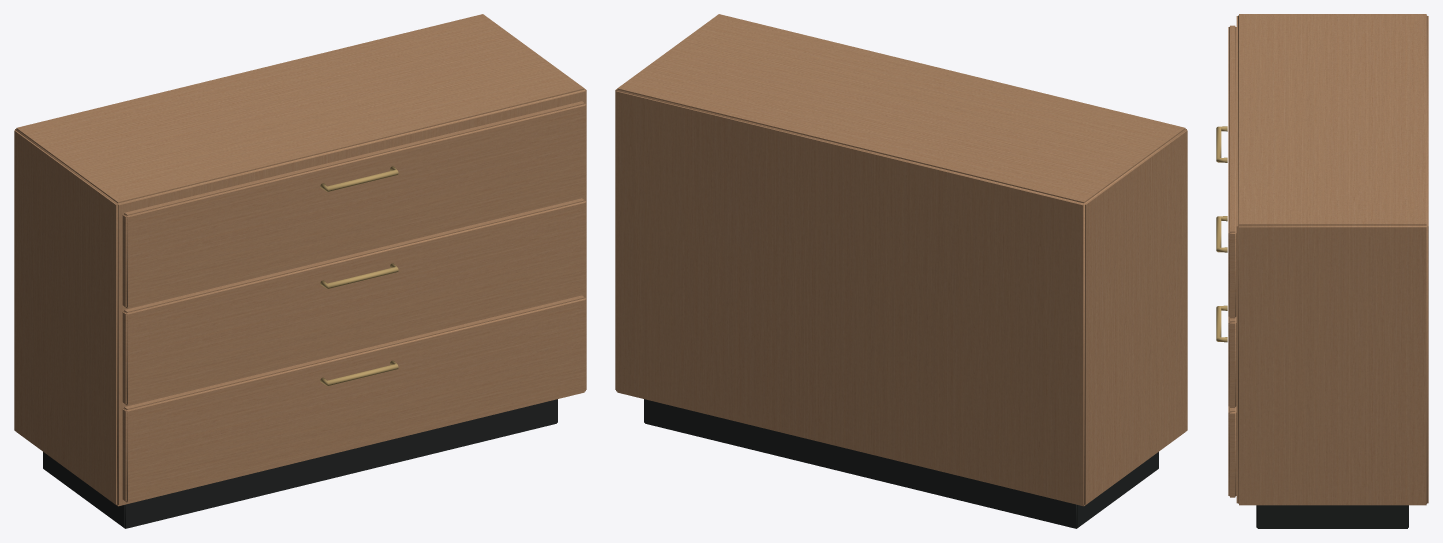
The model's file is contemporary.dresser.gltf.
The picture shows the model from 3 angles, left to right: view 1: azimuth 30°, elevation 25°; view 2: azimuth 150°, elevation 25°; view 3: azimuth 270°, elevation 25°; orthographic projection. The views are drawn at different scales.
Visible parts, largest first — view 1: contemporary.dresser.carcass; view 2: contemporary.dresser.carcass; view 3: contemporary.dresser.carcass.
Boxes of the visible parts, x1,y1,x2,y2 form: contemporary.dresser.carcass: [14, 14, 586, 528]; contemporary.dresser.carcass: [615, 14, 1187, 528]; contemporary.dresser.carcass: [1216, 14, 1428, 528].
Bounding box in the file's own units: 1.15 × 0.79 × 0.487.
Materials: 3 (1 with a texture image).
